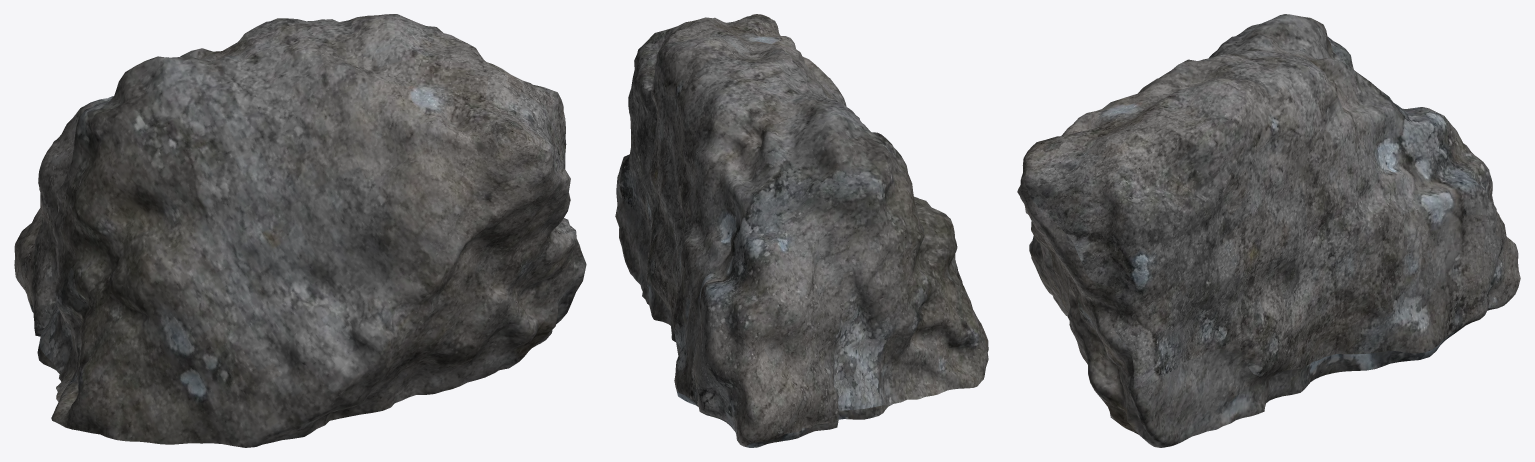
3 views of the same model, side by side, from view 1: azimuth 30°, elevation 25°; view 2: azimuth 150°, elevation 25°; view 3: azimuth 270°, elevation 25° (orthographic). The views are drawn at different scales.
Visible parts, largest first — view 1: Object_2; view 2: Object_2; view 3: Object_2.
Boxes of the visible parts, x1,y1,x2,y2 form: Object_2: (14, 14, 586, 447); Object_2: (615, 14, 988, 447); Object_2: (1017, 14, 1520, 447).
Size of the model in its own units: 8.27 by 5.36 by 7.9.
1 material, 1 textured.
